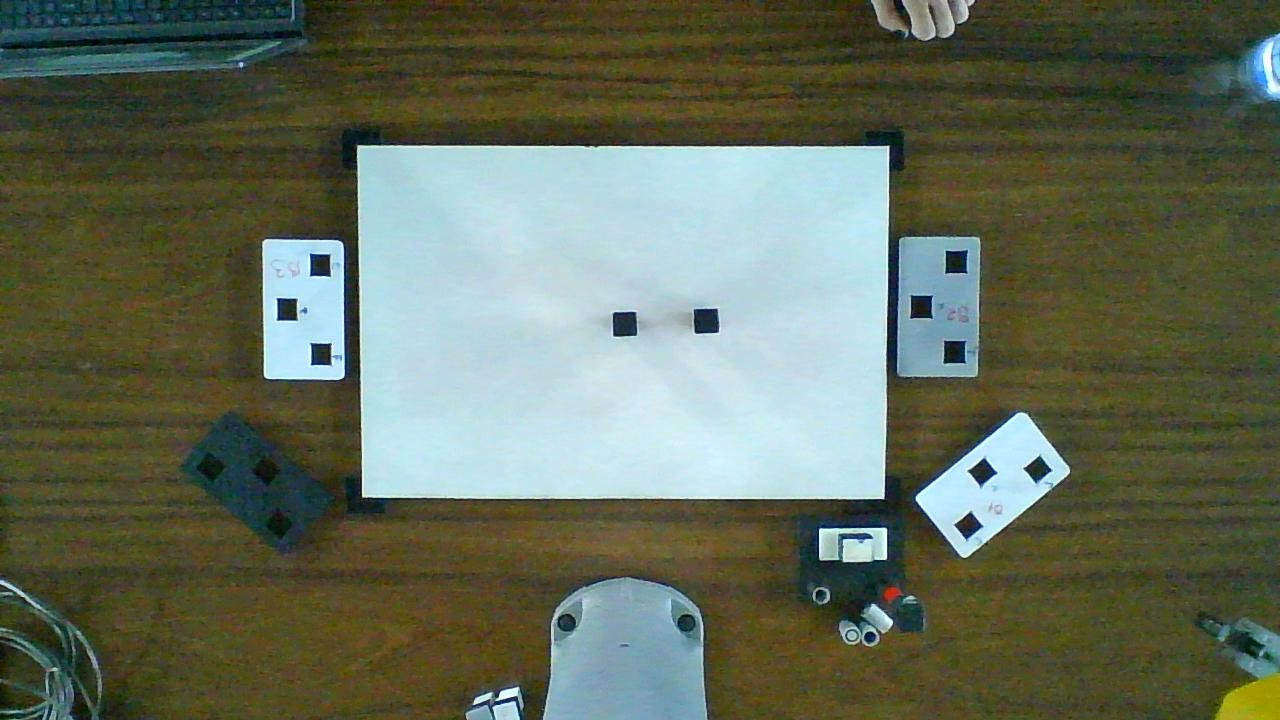peca_preta: (613, 313, 636, 336), (694, 309, 716, 333)
